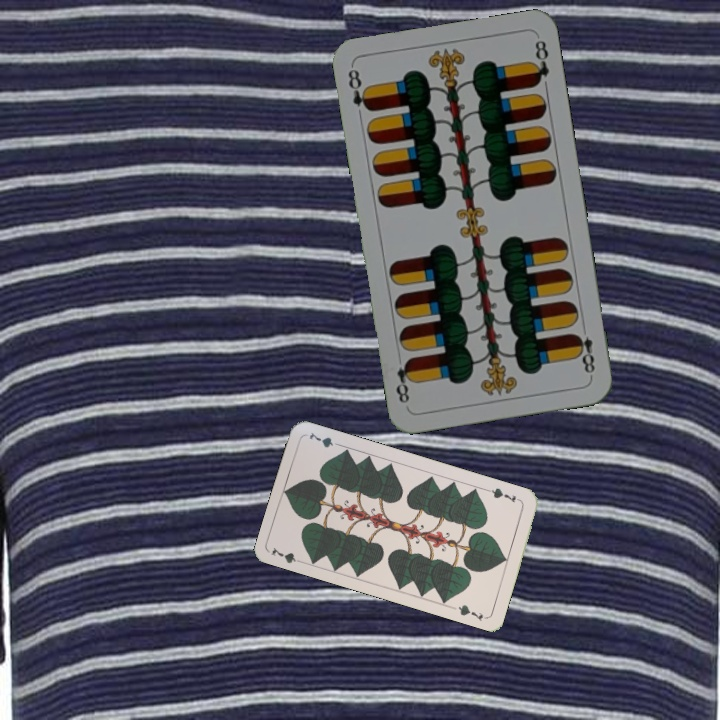E8: (570, 320, 597, 379), (344, 65, 374, 114)
G7: (267, 543, 308, 566), (484, 484, 524, 505)
